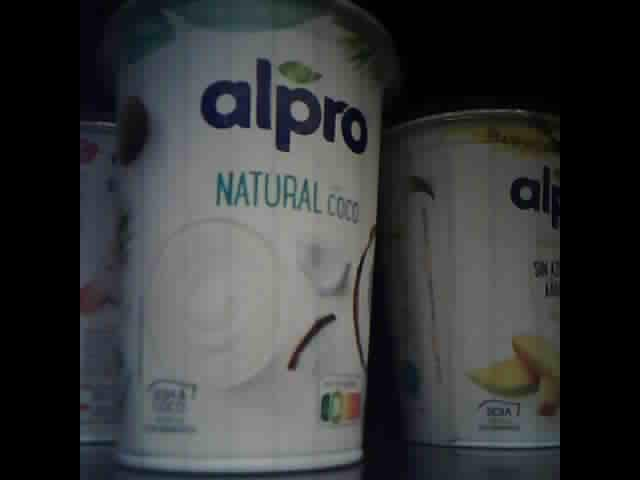alpro: (98, 1, 402, 473), (387, 103, 559, 451), (79, 113, 131, 448)
